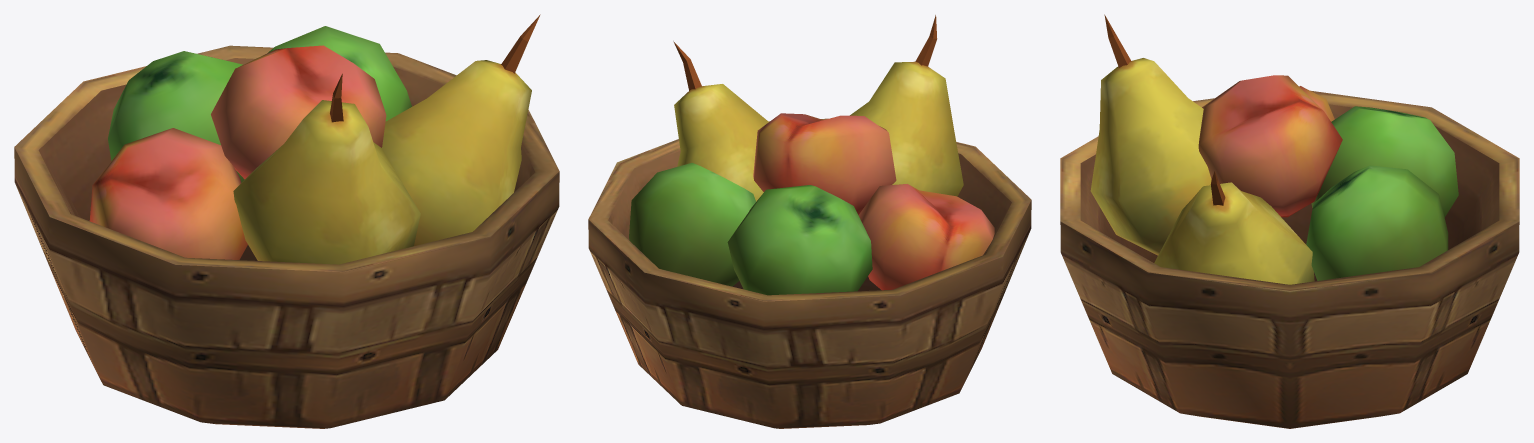
Rendered from Fruit_Bucket.fbx.
The picture shows the model from 3 angles, left to right: view 1: azimuth 30°, elevation 25°; view 2: azimuth 150°, elevation 25°; view 3: azimuth 270°, elevation 25°; orthographic projection. The views are drawn at different scales.
Visible parts, largest first — view 1: Fruit_Bucket; view 2: Fruit_Bucket; view 3: Fruit_Bucket.
Boxes of the visible parts, box(x1,y1,x2,y2) form: Fruit_Bucket: box(14, 14, 559, 428); Fruit_Bucket: box(588, 15, 1031, 428); Fruit_Bucket: box(1060, 14, 1519, 428).
Bounding box in the file's own units: 0.4234 × 0.3177 × 0.4027.
